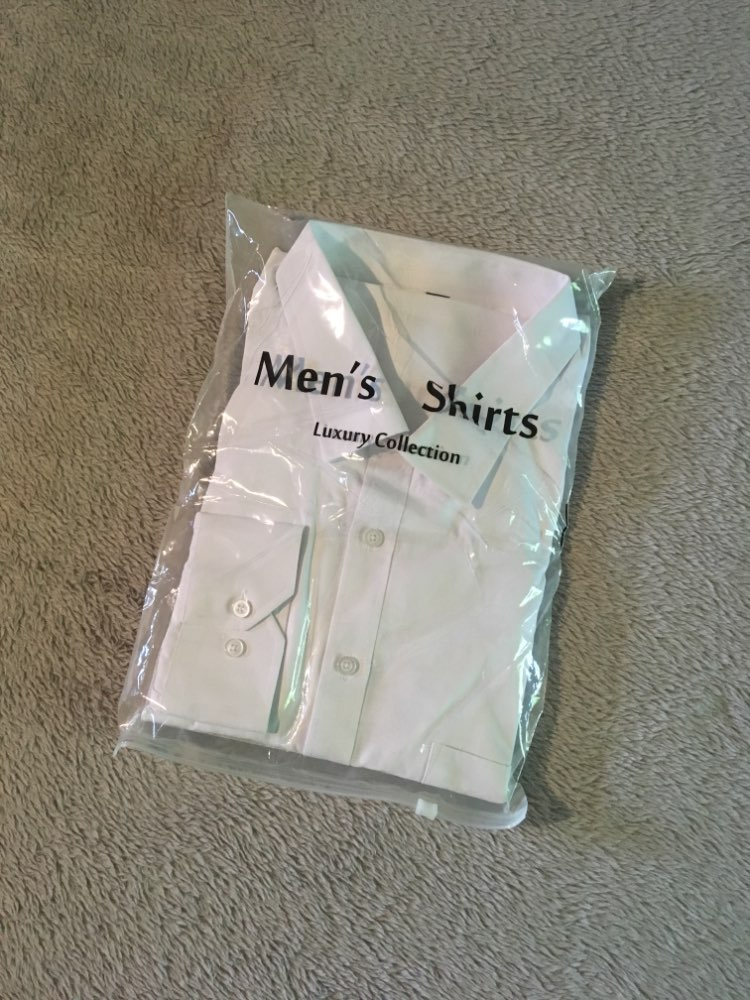shirts: (147, 217, 585, 808)
